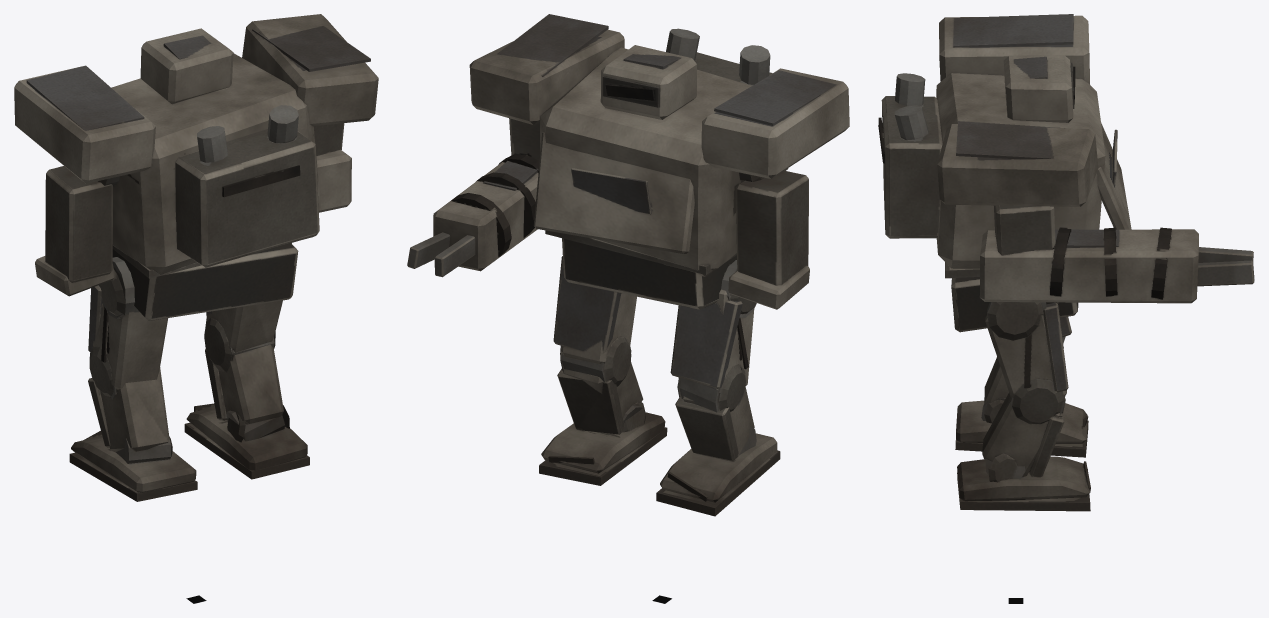
The model's file is ord_stormcaller_wreck.fbx.
3 renders of one model, left to right at view 1: azimuth 30°, elevation 25°; view 2: azimuth 150°, elevation 25°; view 3: azimuth 270°, elevation 25°, orthographic. The views are drawn at different scales.
Visible parts, largest first — view 1: torso_bar, base_bar, thighL_bar, shinR_bar, shinL_bar, footR_bar, footL_bar, thighR_bar; view 2: torso_bar, thighL_bar, thighR_bar, base_bar, footL_bar, footR_bar, shinR_bar, shinL_bar; view 3: torso_bar, thighR_bar, footR_bar, shinR_bar, footL_bar, base_bar, shinL_bar.
Boxes of the visible parts, box(x1,y1,x2,y2) form: torso_bar: box(14, 14, 378, 296); base_bar: box(112, 243, 298, 320); thighL_bar: box(88, 257, 168, 399); shinR_bar: box(205, 344, 289, 442); shinL_bar: box(88, 367, 172, 463); footR_bar: box(184, 403, 309, 479); footL_bar: box(69, 430, 197, 501); thighR_bar: box(204, 243, 291, 372); torso_bar: box(407, 14, 849, 309); thighL_bar: box(670, 260, 756, 412); thighR_bar: box(553, 256, 636, 386); base_bar: box(562, 238, 736, 309); footL_bar: box(656, 433, 780, 516); footR_bar: box(539, 412, 667, 485); shinR_bar: box(557, 361, 645, 434); shinL_bar: box(675, 387, 756, 460); torso_bar: box(878, 14, 1254, 303); thighR_bar: box(985, 302, 1068, 424); footR_bar: box(957, 456, 1090, 511); shinR_bar: box(982, 392, 1064, 482); footL_bar: box(955, 400, 1088, 457); base_bar: box(951, 277, 1078, 332); shinL_bar: box(981, 357, 1008, 423).
Bounding box in the file's own units: 484 × 812 × 516.
2 materials, 2 textured.
